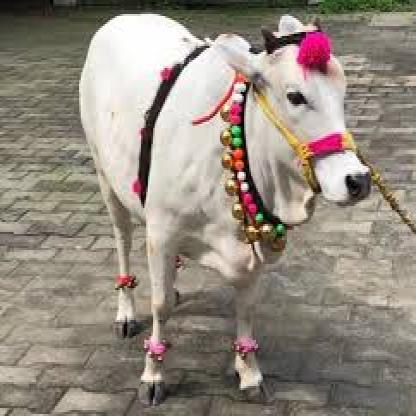cow: (100, 12, 364, 416)
